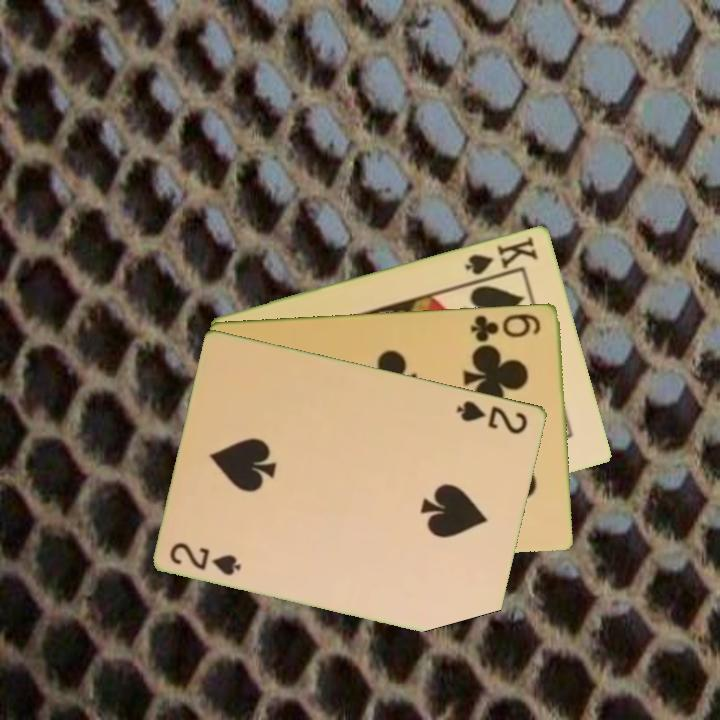2s: (453, 396, 531, 437), (166, 538, 245, 578)
6c: (468, 309, 544, 345)
Ks: (462, 232, 541, 284)
